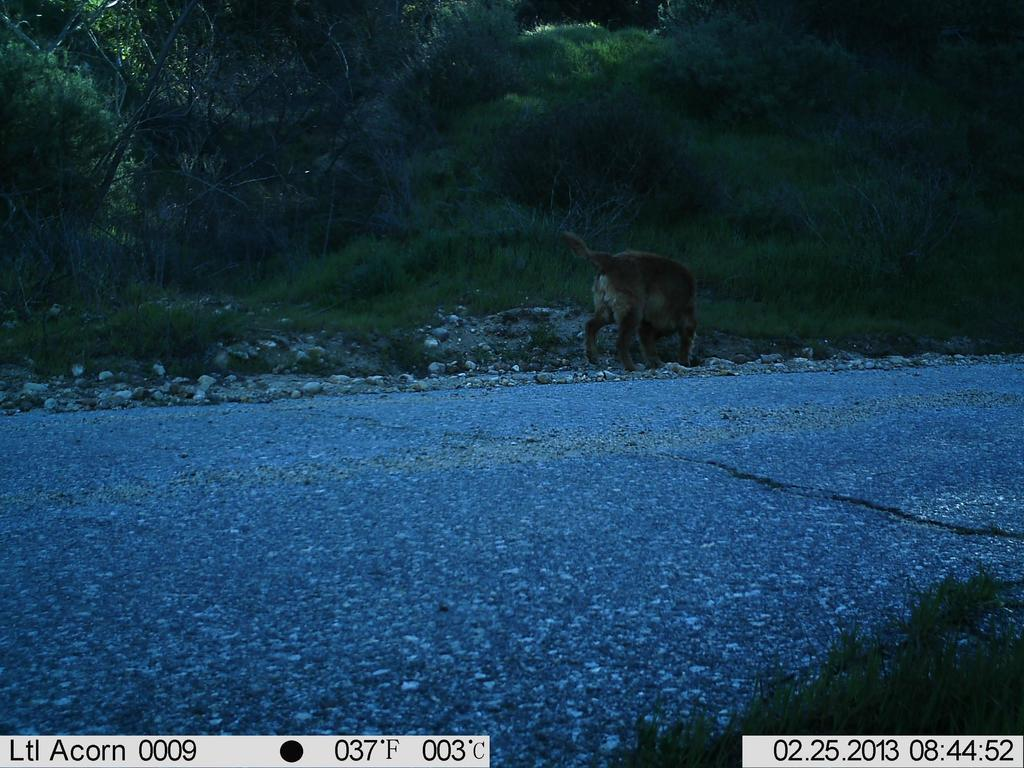dog: (545, 219, 709, 391)
